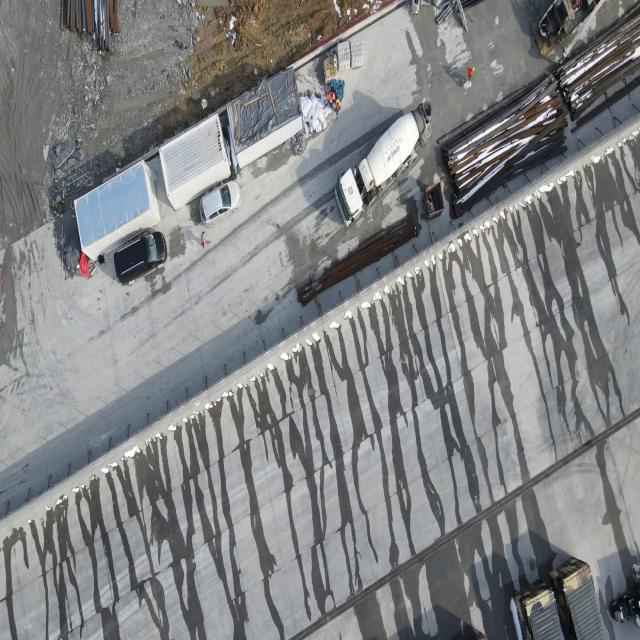p3rson: (200, 230, 211, 250), (462, 66, 474, 84), (326, 91, 334, 107), (334, 98, 340, 116)
